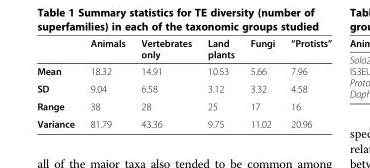table: (36, 37, 331, 129)
table column: (132, 37, 199, 129), (81, 37, 132, 129), (282, 37, 331, 129), (36, 37, 81, 129), (199, 37, 241, 129), (241, 37, 282, 129)
table column header: (36, 37, 331, 62)
table row: (36, 37, 331, 62), (36, 79, 331, 97), (36, 62, 331, 79), (36, 97, 331, 114), (36, 114, 331, 129)
